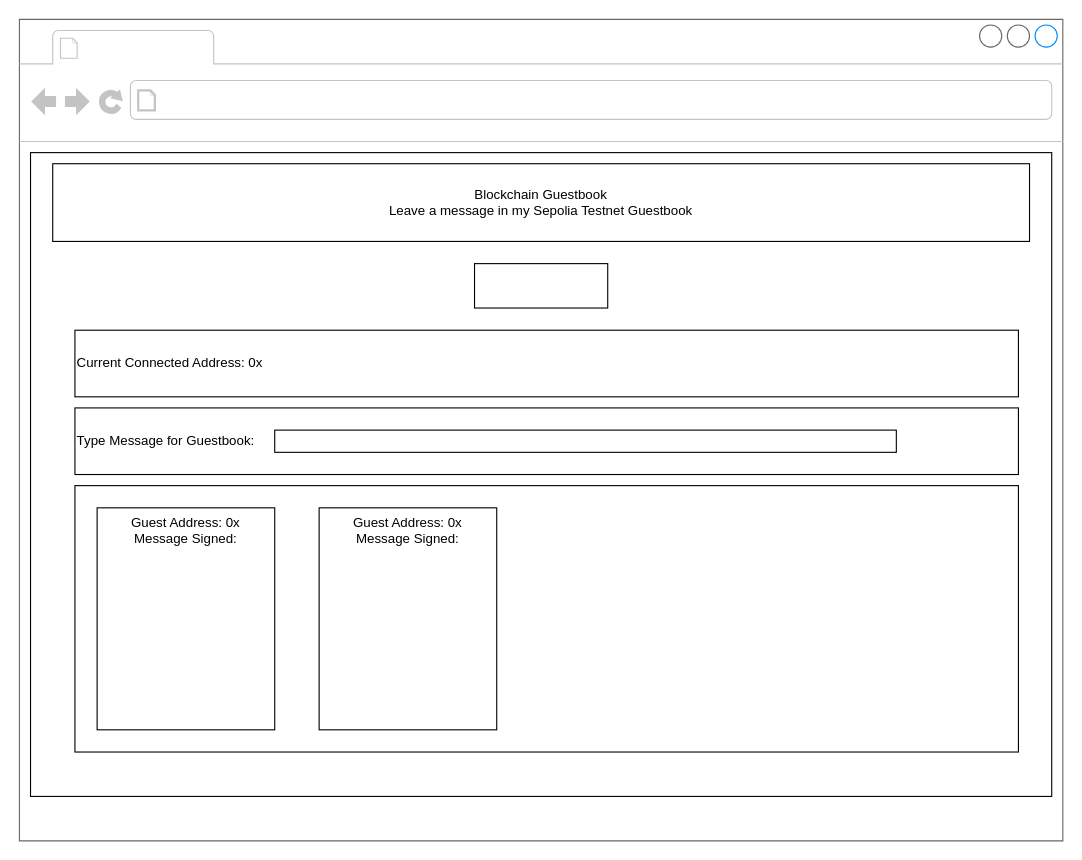
Some shapes in this 1082 by 860 pixel diagram are drawn without their labels. Each missing label, with the centre of its shape:
"Connect Wallet" belongs at point 540,285.
"https://www.guestbook.io" belongs at point 302,100.
"Page 1" belongs at point 146,47.
